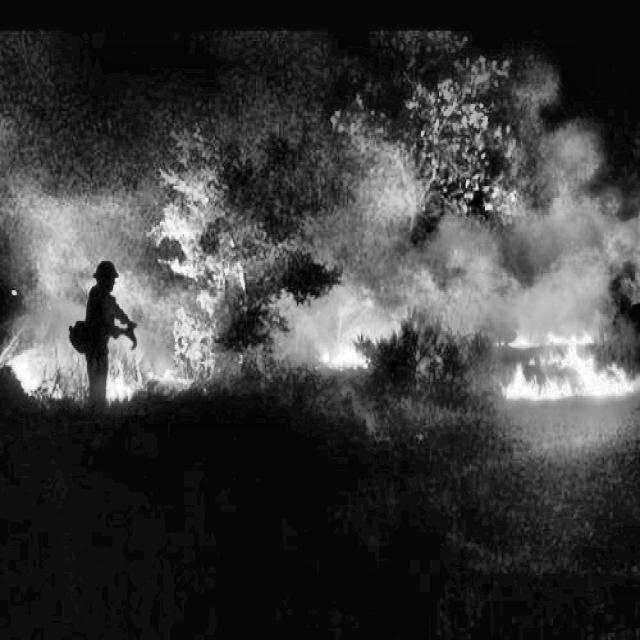fire: (459, 282, 639, 490), (0, 234, 168, 446), (263, 288, 431, 441)
